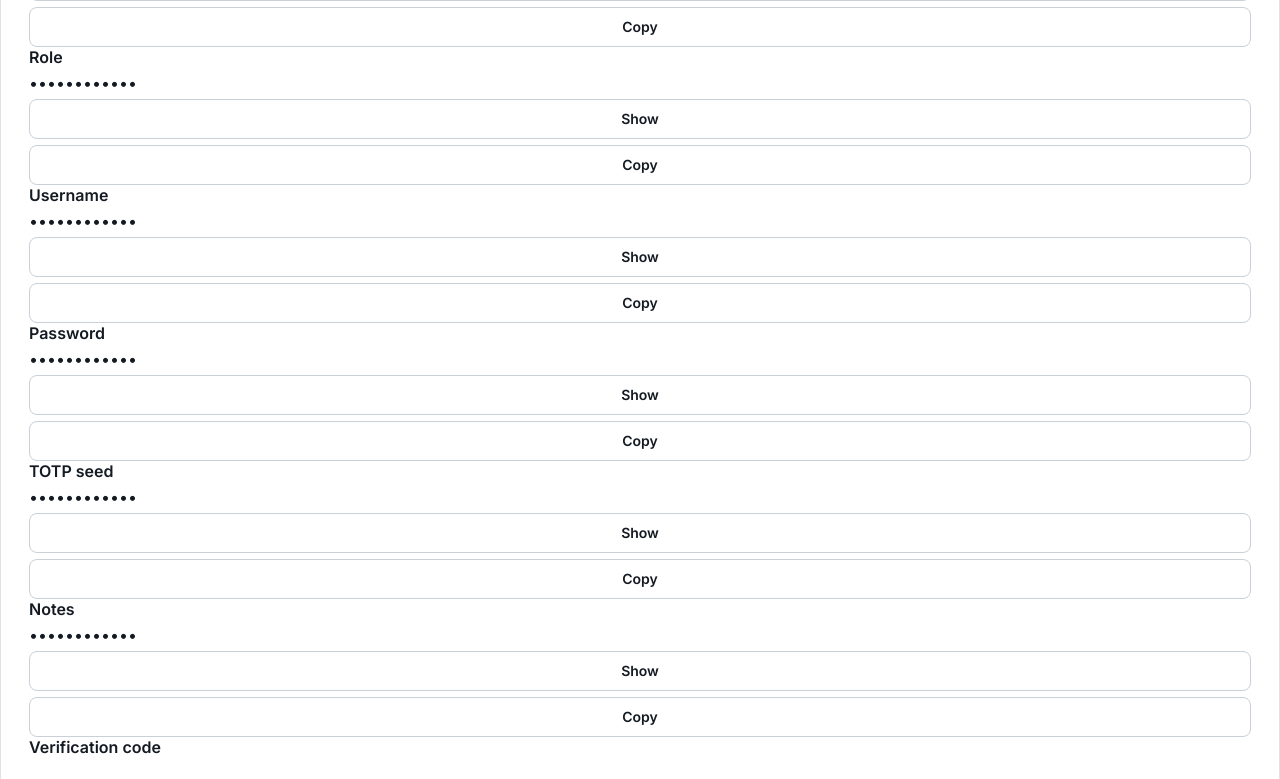
Test: shows the TOTP without an audit and audits a password reveal
(page scrolled)
Expected: the text "hidden-value" is not shown
Click the button with aria-label "Show Password": {"x": 640, "y": 395} [29,375,1251,415]
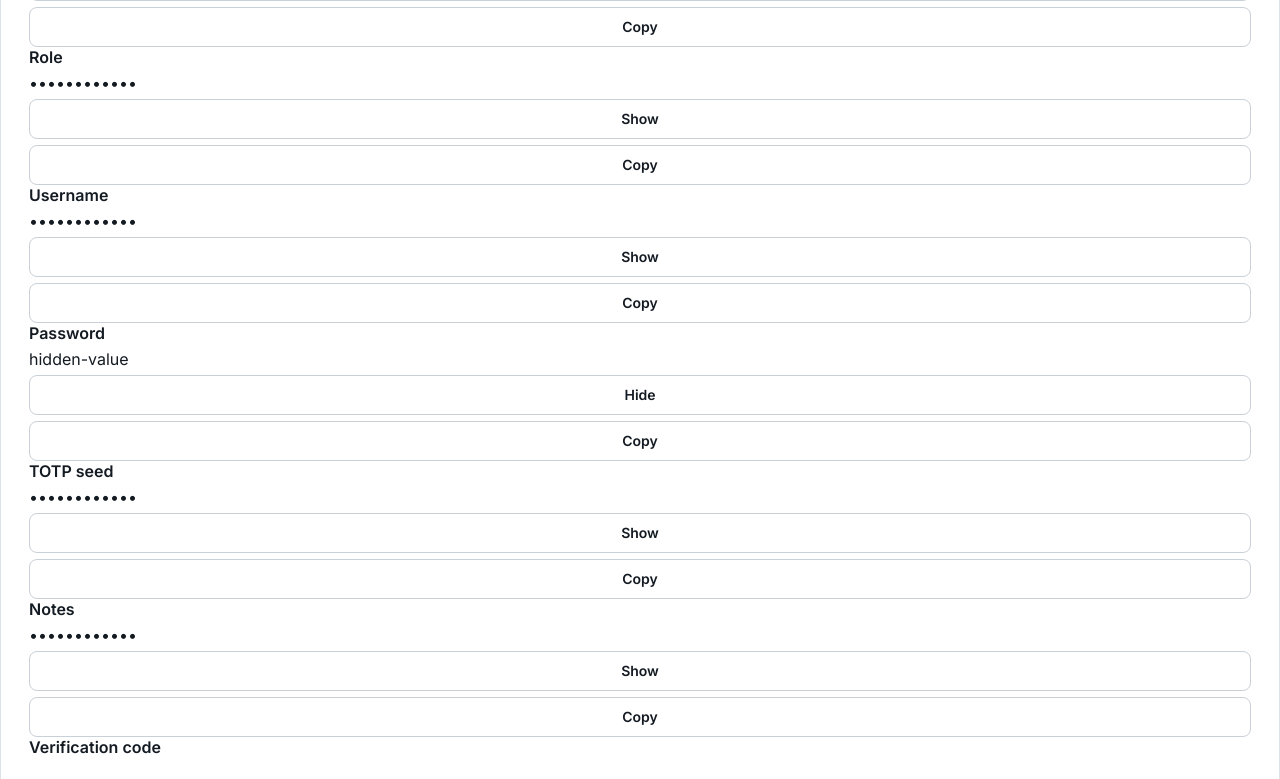
Expected: the text "hidden-value" is shown, [29,349,129,369]
